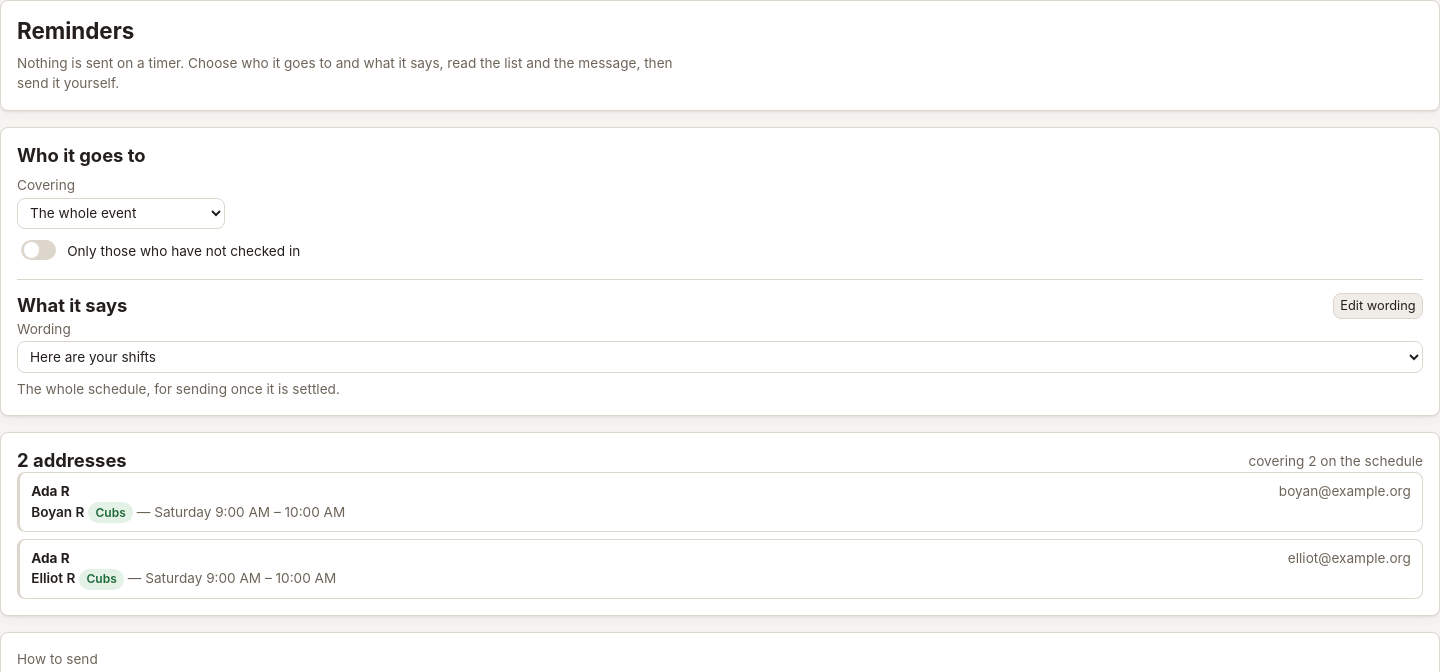
Test case: the wording and the filter › locks the filter on for wording that claims somebody has not checked in
Select "One day" in the dropdown labelled "Covering" at coordinates (121, 213), box [17,198,225,229]
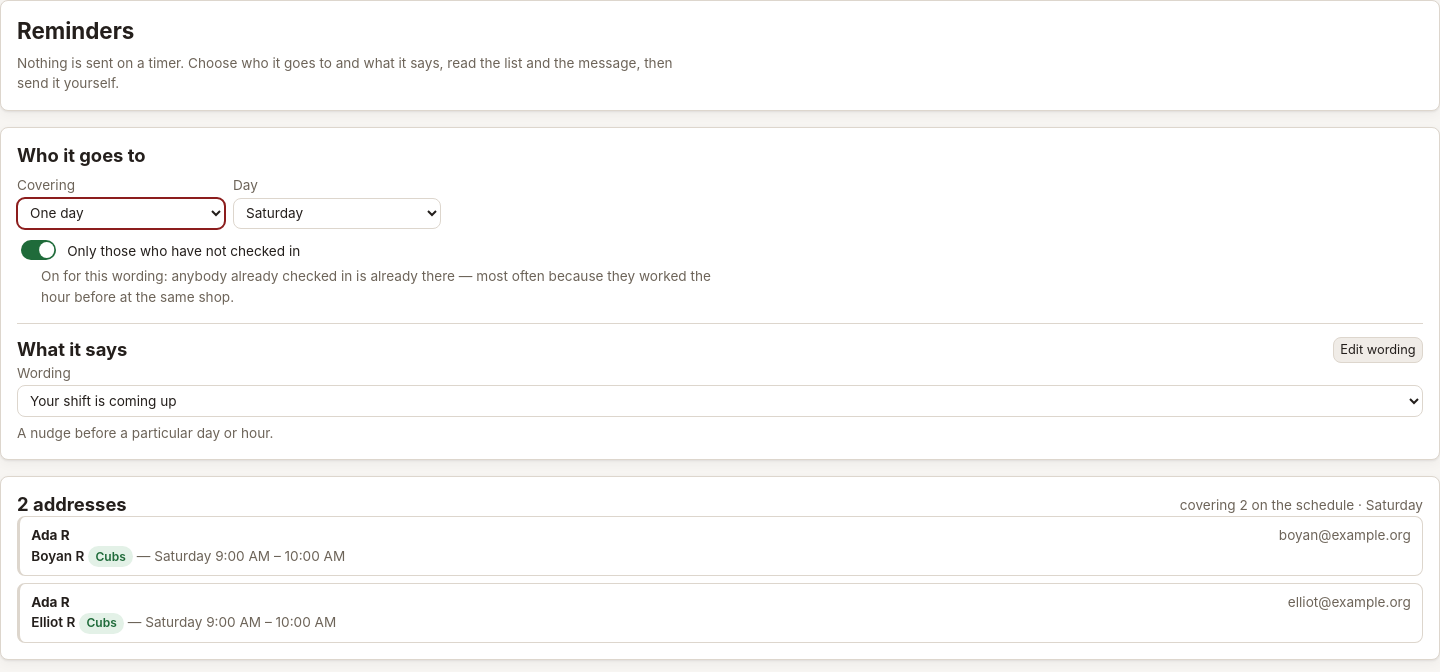
Select "We are expecting you" in the dropdown labelled "Wording" at coordinates (720, 401), box [17,386,1423,417]
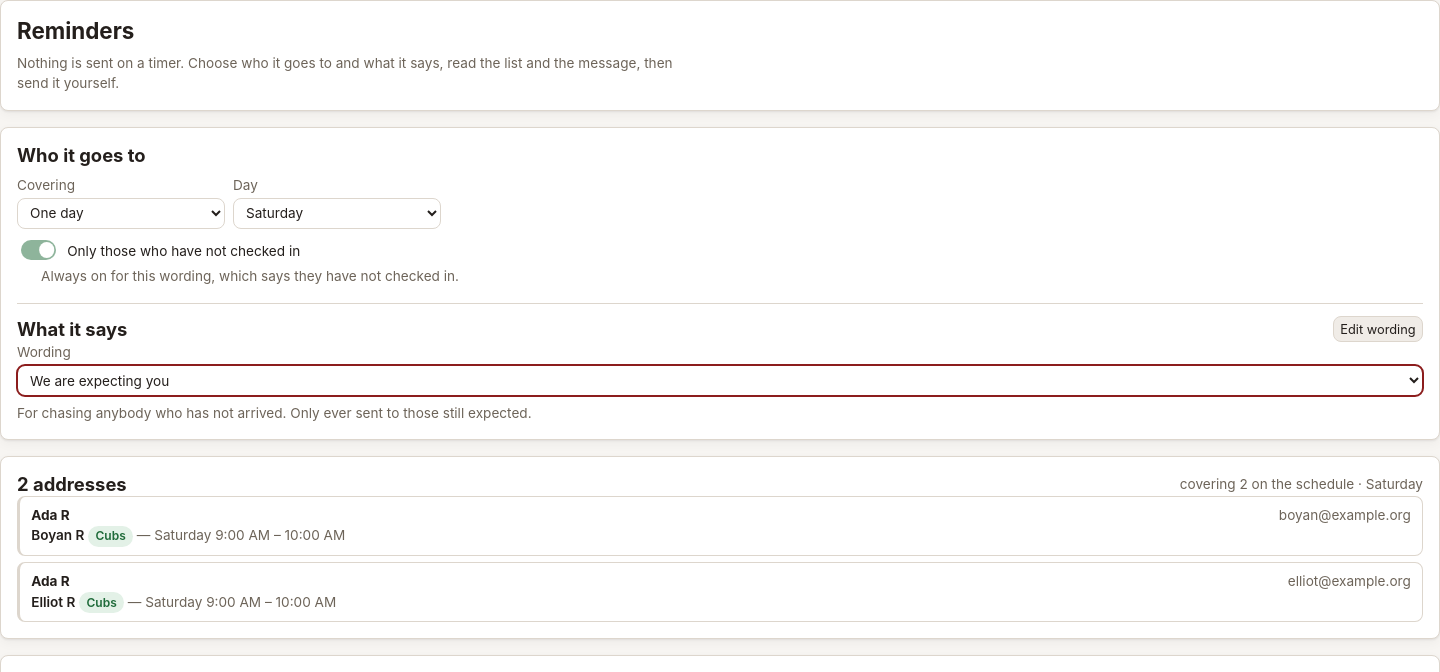
Expected: the checkbox labelled "Only those who have not checked in" is checked, [21,240,56,260]
Expected: the checkbox labelled "Only those who have not checked in" is disabled, [21,240,56,260]
Expected: the text "Always on for this wording" is shown, [41,268,459,284]
